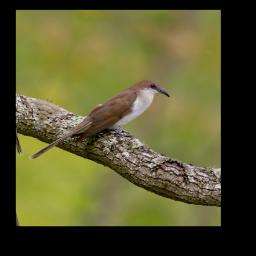Cuckoo: (29, 52, 175, 195)
